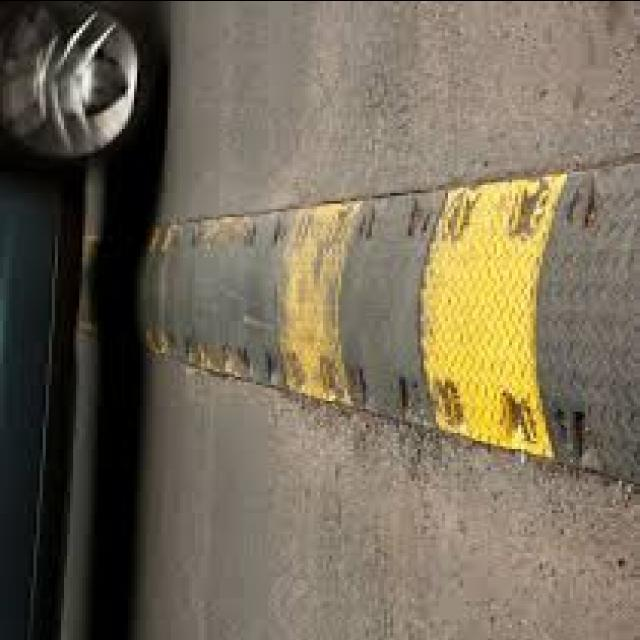speedbreaker: (148, 190, 640, 447)
